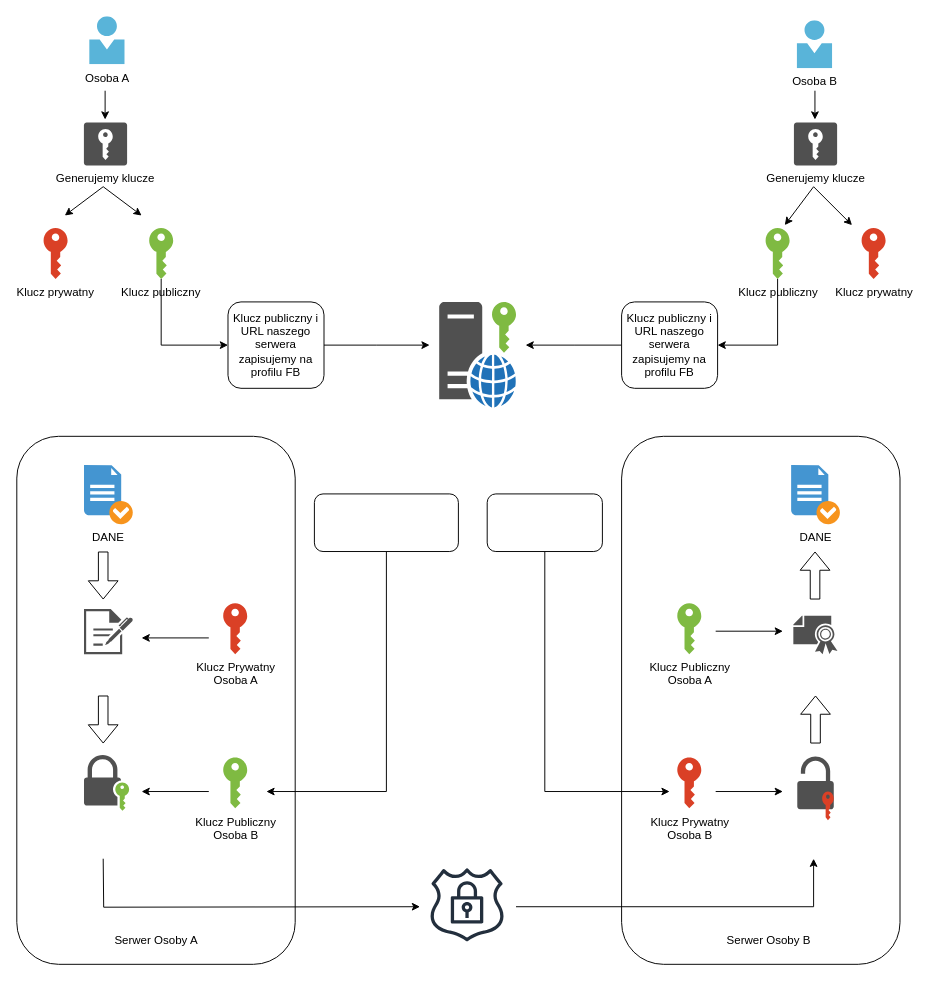
Image size: 929x992. Some labels were removed from this diagram. Here are the shapes that lost their labels. From the top down, the box of each, then its label:
(439, 301, 516, 407): Facebook jako centrum identyfikacji oraz przechowywania kluczy publicznych
(313, 493, 458, 552): Pobieramy z FB: URL serwera Osoby B jej klucz publiczny
(486, 493, 602, 552): Pobieramy z FB: klucz publiczny do potwierdzenia nadawcy
(84, 609, 132, 654): Podpisujemy dane naszym kluczem prywatnym.
(793, 615, 837, 654): Weryfikacja podpisu osoby A
(84, 755, 129, 810): Szyfrujemy dane kluczem publicznym
(797, 756, 833, 809): Rozszyfrowujemy dane kluczem prywatnym
(429, 868, 504, 941): Komunikacja SSL Rest API
